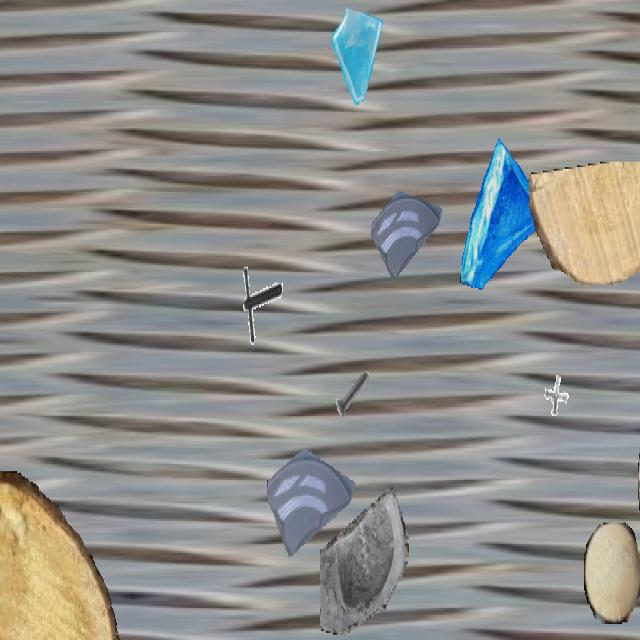glass: (458, 137, 552, 304), (320, 482, 408, 638), (267, 416, 355, 572), (371, 162, 443, 290), (330, 2, 388, 105)
metal: (234, 261, 282, 347), (332, 357, 374, 432), (538, 361, 578, 432), (634, 87, 640, 190)
wood: (0, 471, 123, 638), (529, 162, 640, 282), (584, 523, 640, 622), (638, 414, 640, 542)
